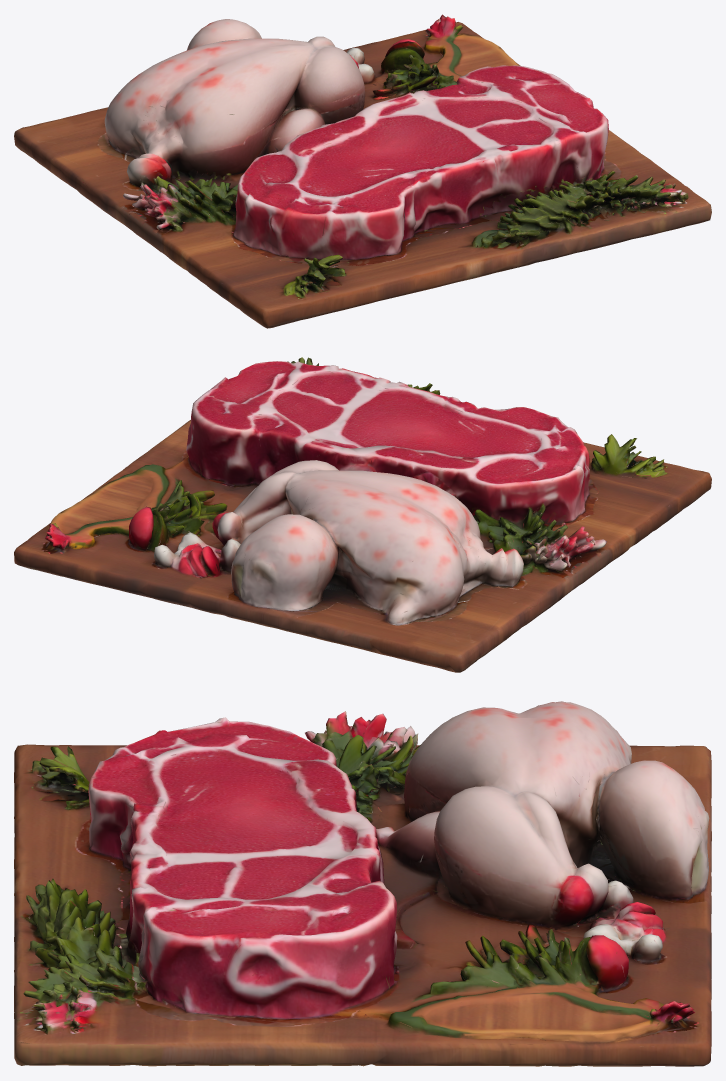
The model's file is Meat.glb.
3 views of the same model, one above another, from view 1: azimuth 30°, elevation 25°; view 2: azimuth 150°, elevation 25°; view 3: azimuth 270°, elevation 25° (orthographic). The views are drawn at different scales.
Bounding box in the file's own units: 1.92 × 0.436 × 1.87.
1 material, 1 textured.
